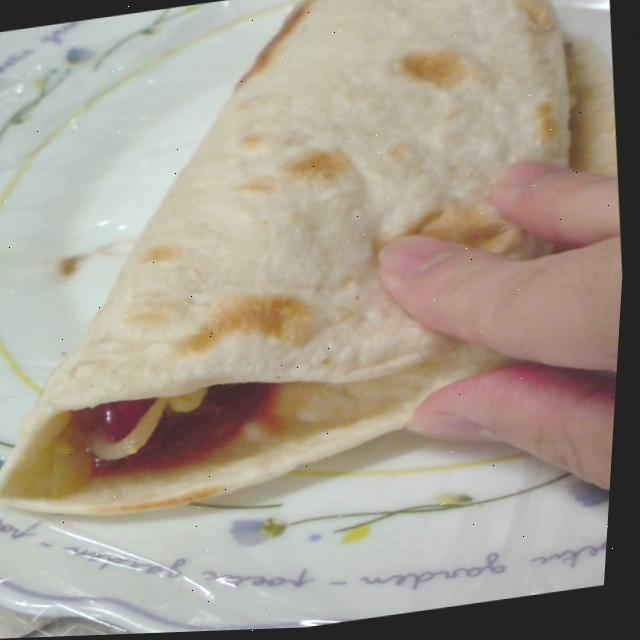三明治: (0, 0, 640, 502)
